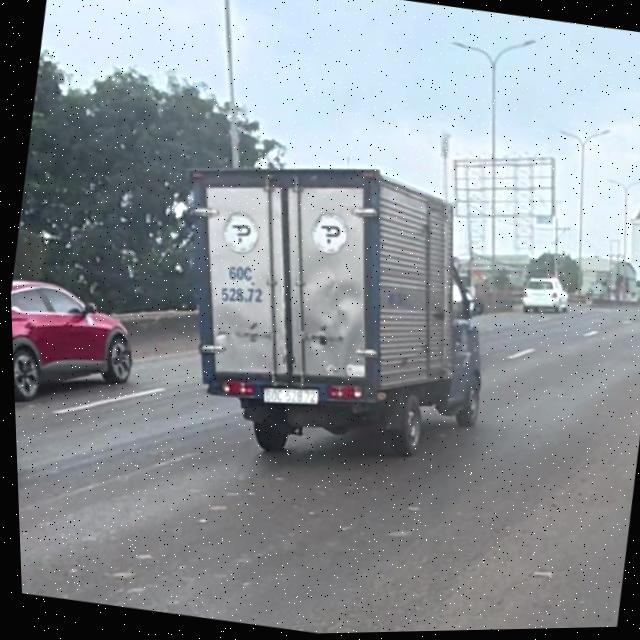car: (133, 134, 525, 488), (10, 270, 152, 420), (516, 271, 568, 319)
plate: (254, 378, 325, 417)
